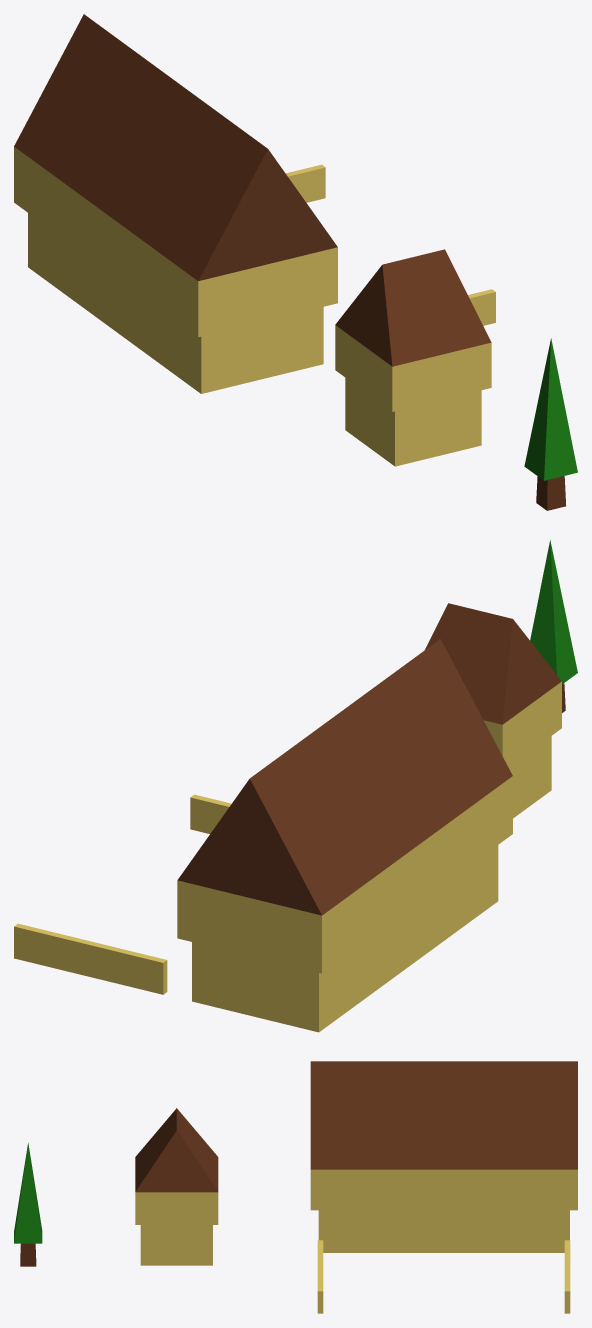
File: basicAssets.glb
3 renders of one model, top to bottom at view 1: azimuth 30°, elevation 25°; view 2: azimuth 150°, elevation 25°; view 3: azimuth 270°, elevation 25°, orthographic. The views are drawn at different scales.
Parts seen in each view (by area): view 1: TownCenter, Housezz, Tree; view 2: TownCenter, Housezz, Tree; view 3: TownCenter, Housezz, Tree.
Part boxes in pixels (x1,y1,x2,y2): TownCenter: (14, 14, 495, 393); Housezz: (335, 249, 491, 466); Tree: (524, 338, 577, 510); TownCenter: (14, 639, 512, 1032); Housezz: (425, 603, 561, 818); Tree: (530, 540, 577, 712); TownCenter: (310, 1061, 577, 1313); Housezz: (135, 1108, 218, 1265); Tree: (14, 1143, 42, 1266).
Bounding box in the file's own units: 4.27 × 3.17 × 9.49.
